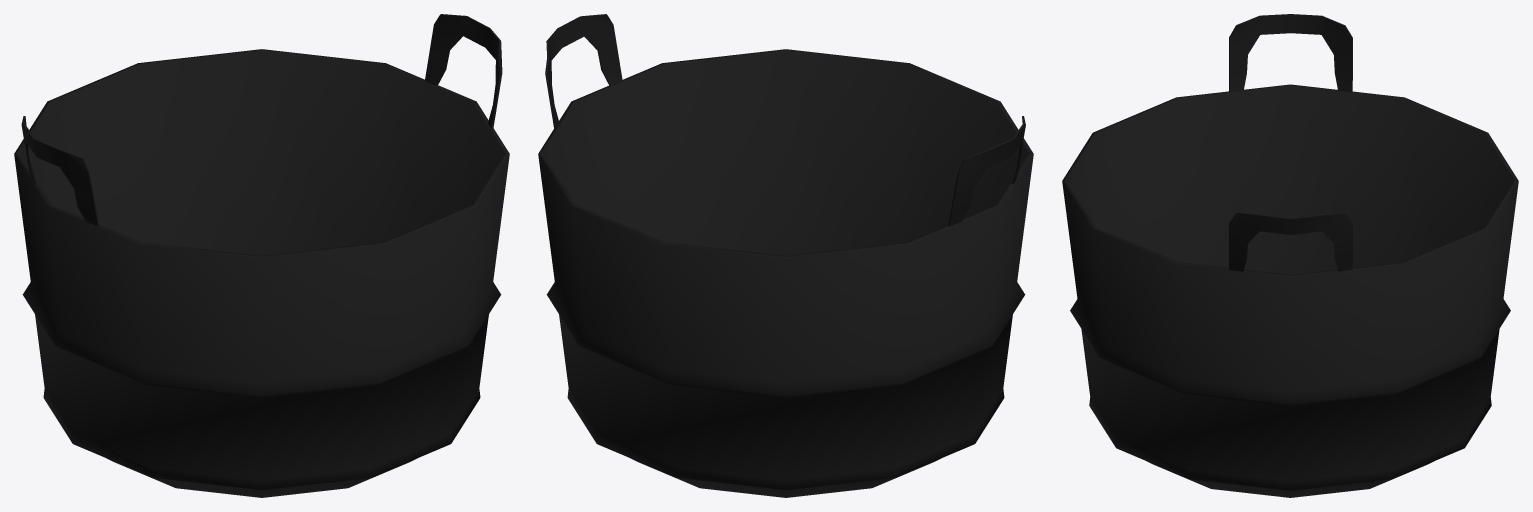
File: Laundry_Tub_A.FBX
3 views of the same model, side by side, from view 1: azimuth 30°, elevation 25°; view 2: azimuth 150°, elevation 25°; view 3: azimuth 270°, elevation 25° (orthographic). The views are drawn at different scales.
Parts seen in each view (by area): view 1: Laundry_Tub; view 2: Laundry_Tub; view 3: Laundry_Tub.
Boxes of the visible parts, <box> form: Laundry_Tub: <box>14,14,509,497</box>; Laundry_Tub: <box>538,14,1033,497</box>; Laundry_Tub: <box>1062,14,1518,497</box>.
Bounding box in the file's own units: 102 × 73.29 × 96.11.
